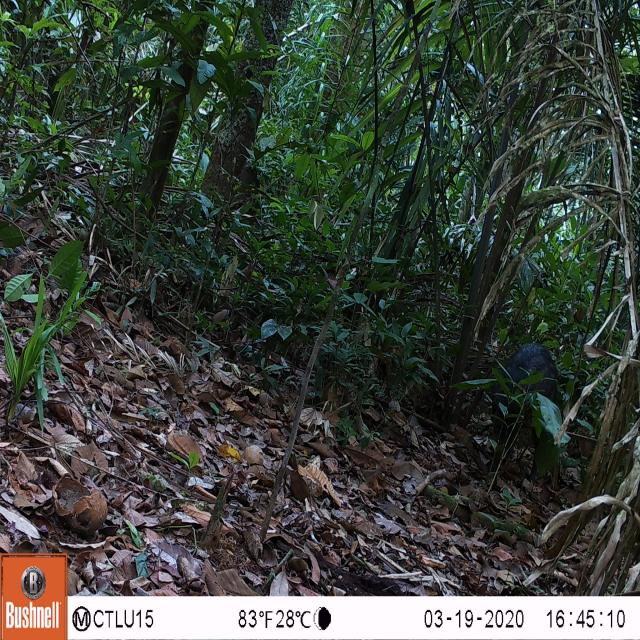White-lipped Peccary: (500, 328, 568, 416)
